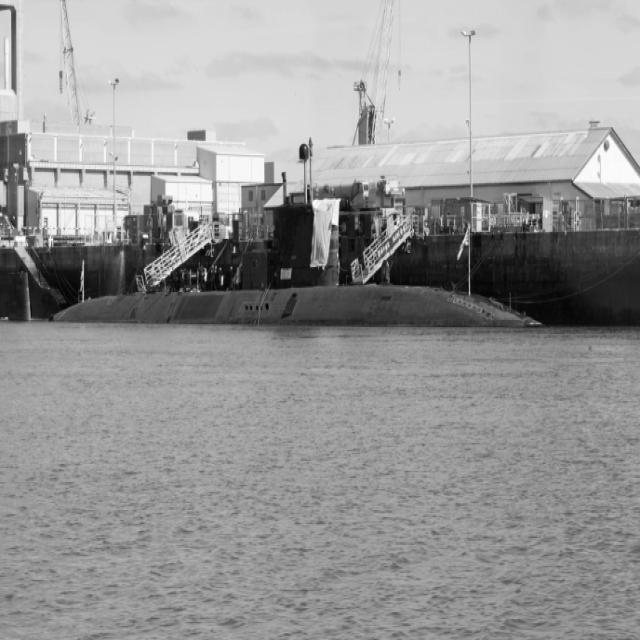submarine: (46, 188, 550, 327)
